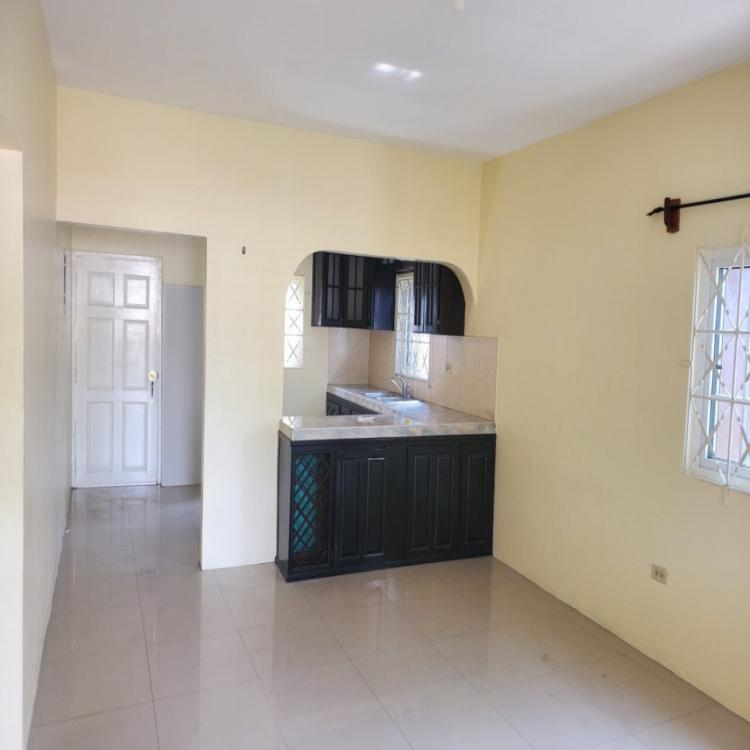ClosedDoor: (73, 250, 161, 487)
